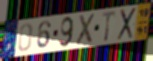0: (17, 23, 34, 53)
6: (37, 20, 52, 50)
9: (59, 16, 76, 49)
T: (101, 10, 117, 43)
X: (116, 6, 137, 42), (76, 12, 97, 47)
